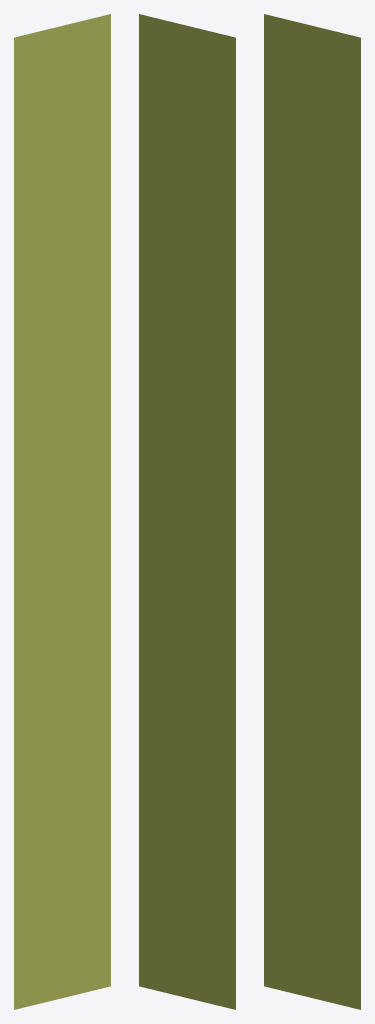
File: stage_5_grain_fill.gltf
3 views of the same model, side by side, from view 1: azimuth 30°, elevation 25°; view 2: azimuth 150°, elevation 25°; view 3: azimuth 330°, elevation 25° (orthographic).
Parts seen in each view (by area): view 1: plant_stage_5; view 2: plant_stage_5; view 3: plant_stage_5.
Boxes of the visible parts, <box> form: plant_stage_5: <box>14,14,110,1009</box>; plant_stage_5: <box>139,14,235,1009</box>; plant_stage_5: <box>264,14,360,1009</box>.
Bounding box in the file's own units: 0.25 × 2.4 × 0.
